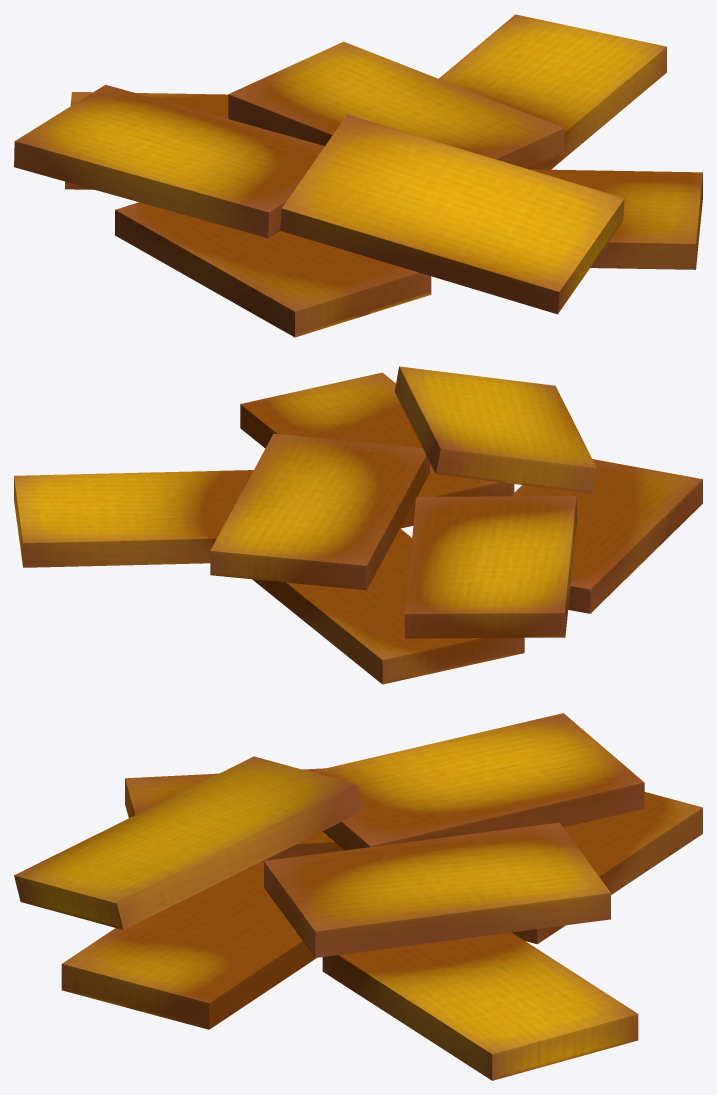
The model's file is chem_Sponge_Pack_Soaked.fbx.
3 renders of one model, top to bottom at view 1: azimuth 30°, elevation 25°; view 2: azimuth 150°, elevation 25°; view 3: azimuth 270°, elevation 25°, orthographic. The views are drawn at different scales.
Parts seen in each view (by area): view 1: Sopnge_packSoaked; view 2: Sopnge_packSoaked; view 3: Sopnge_packSoaked.
Part boxes in pixels (<box>): Sopnge_packSoaked: <box>14,14,702,337</box>; Sopnge_packSoaked: <box>14,366,702,684</box>; Sopnge_packSoaked: <box>14,713,702,1080</box>.
Bounding box in the file's own units: 1.42 × 0.2205 × 1.34.
